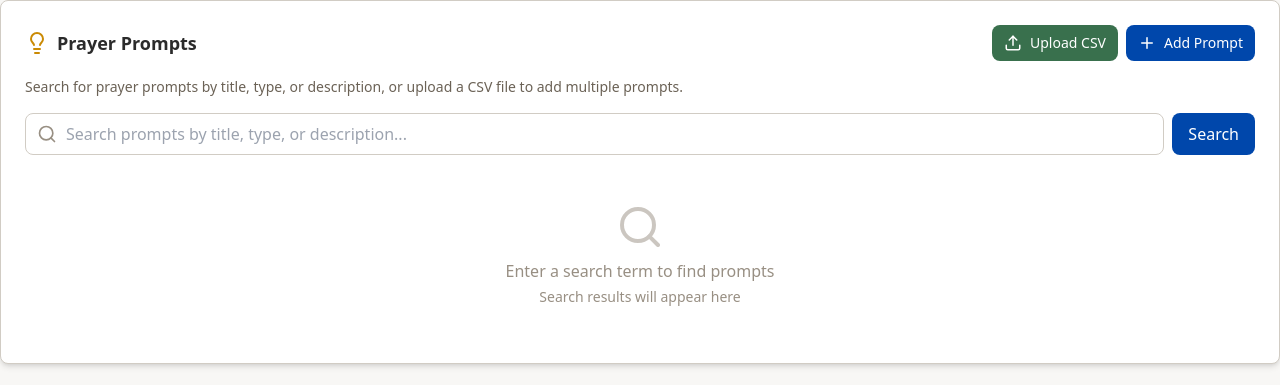
it: PromptManager Component › Search Functionality › performs search when search button is clicked
Type "Gratitude" into the field with placeholder "Search prompts by title, type, or description..." at (595, 134), box x1=25 y1=113 x2=1164 y2=155
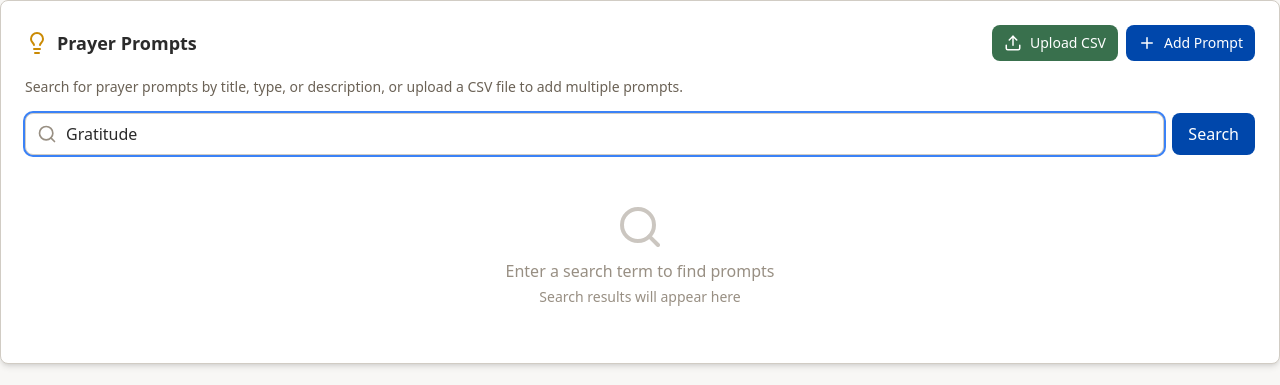
Click the button "Search" at (1214, 134), box x1=1172 y1=113 x2=1255 y2=155
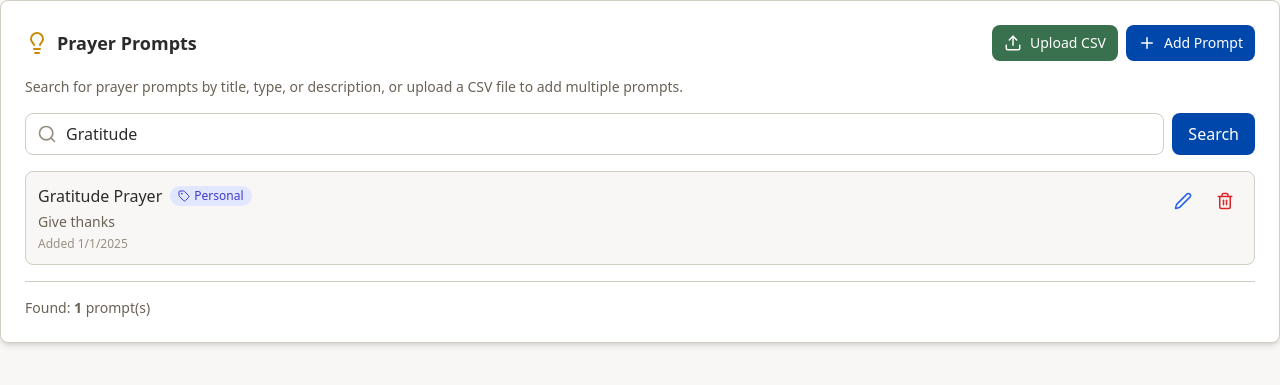
Expected: the heading "Gratitude Prayer" is shown, x1=38 y1=184 x2=162 y2=208
